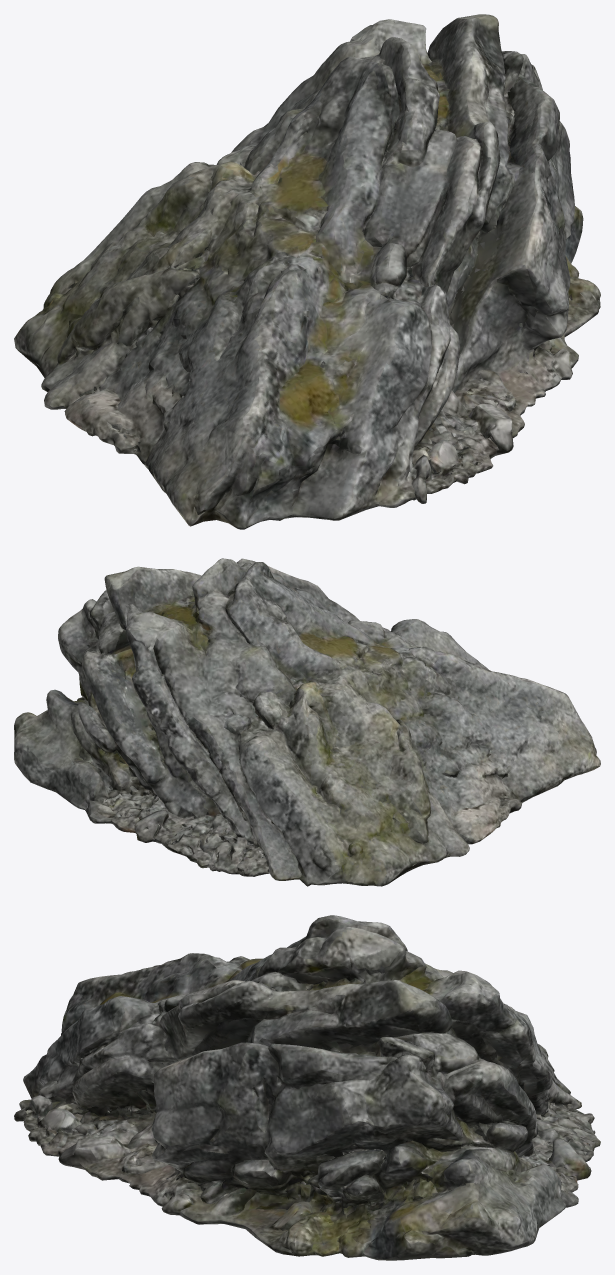
The model's file is fractured-outcrop-v5-lod.glb.
3 views of the same model, one above another, from view 1: azimuth 30°, elevation 25°; view 2: azimuth 150°, elevation 25°; view 3: azimuth 270°, elevation 25° (orthographic). The views are drawn at different scales.
Visible parts, largest first — view 1: geometry_0; view 2: geometry_0; view 3: geometry_0.
Boxes of the visible parts, x1=… form: geometry_0: x1=14, y1=14, x2=600, y2=529; geometry_0: x1=14, y1=558, x2=600, y2=886; geometry_0: x1=14, y1=915, x2=600, y2=1260.
Bounding box in the file's own units: 0.3196 × 0.1597 × 0.3086.
Materials: 1 (1 with a texture image).
